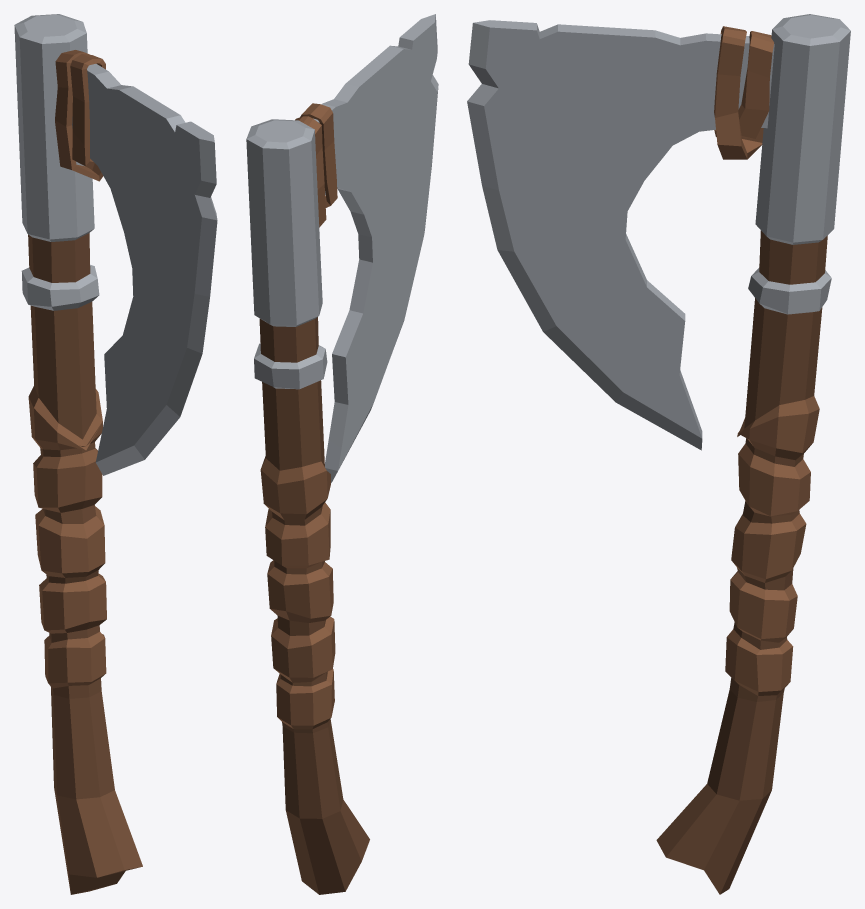
File: hand_axe.glb
3 views of the same model, side by side, from view 1: azimuth 30°, elevation 25°; view 2: azimuth 150°, elevation 25°; view 3: azimuth 270°, elevation 25° (orthographic). The views are drawn at different scales.
Parts seen in each view (by area): view 1: hand_axe; view 2: hand_axe; view 3: hand_axe.
Part boxes in pixels (x1,y1,x2,y2): hand_axe: (14,14,217,894); hand_axe: (246,14,438,894); hand_axe: (467,14,850,894).
Size of the model in its own units: 0.0504 by 0.5998 by 0.2408.
